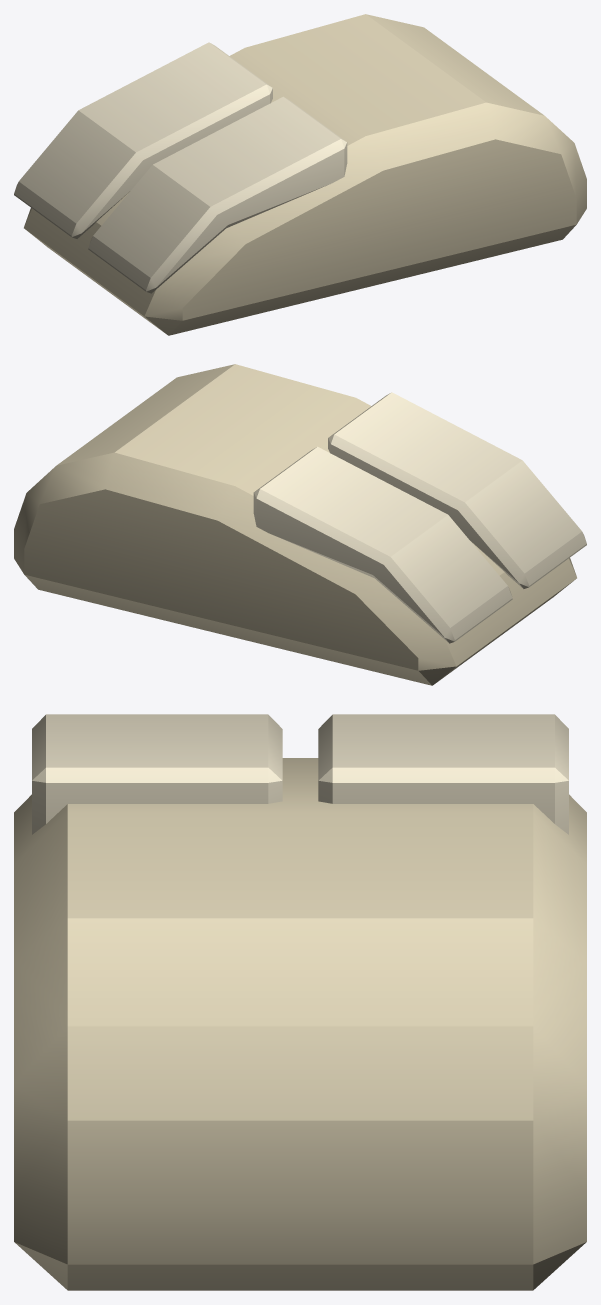
Rendered from Mouse.fbx.
3 views of the same model, one above another, from view 1: azimuth 30°, elevation 25°; view 2: azimuth 150°, elevation 25°; view 3: azimuth 270°, elevation 25° (orthographic). The views are drawn at different scales.
Visible parts, largest first — view 1: Mouse; view 2: Mouse; view 3: Mouse.
Boxes of the visible parts, <box> form: Mouse: <box>14,14,586,335</box>; Mouse: <box>14,364,586,685</box>; Mouse: <box>14,714,586,1290</box>.
Size of the model in its own units: 0.4995 by 0.1714 by 0.288.
Materials: 1 (1 with a texture image).
